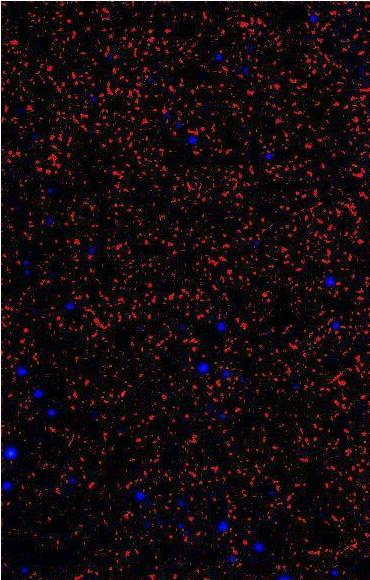star: (0, 438, 22, 468)
